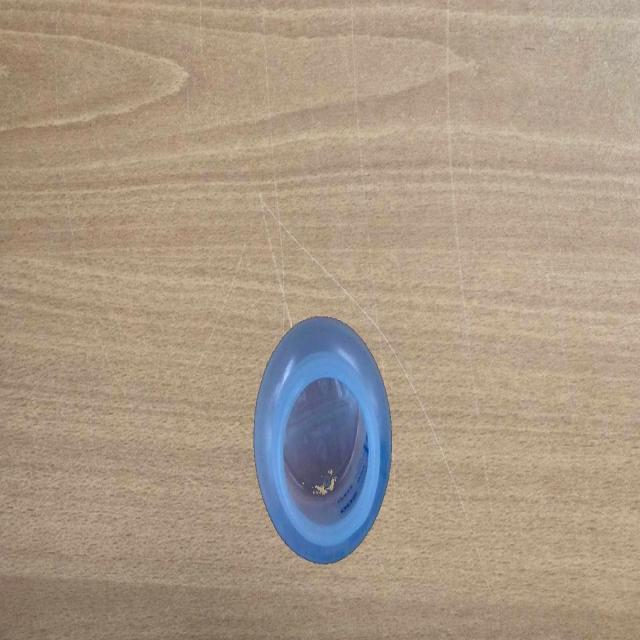bottle: (252, 314, 396, 568)
